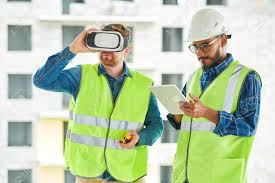helmet: (185, 6, 236, 40)
vest: (176, 71, 259, 182), (77, 69, 153, 179)
